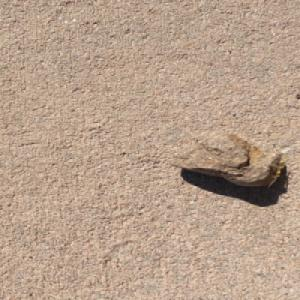Rock: (166, 130, 284, 187)
